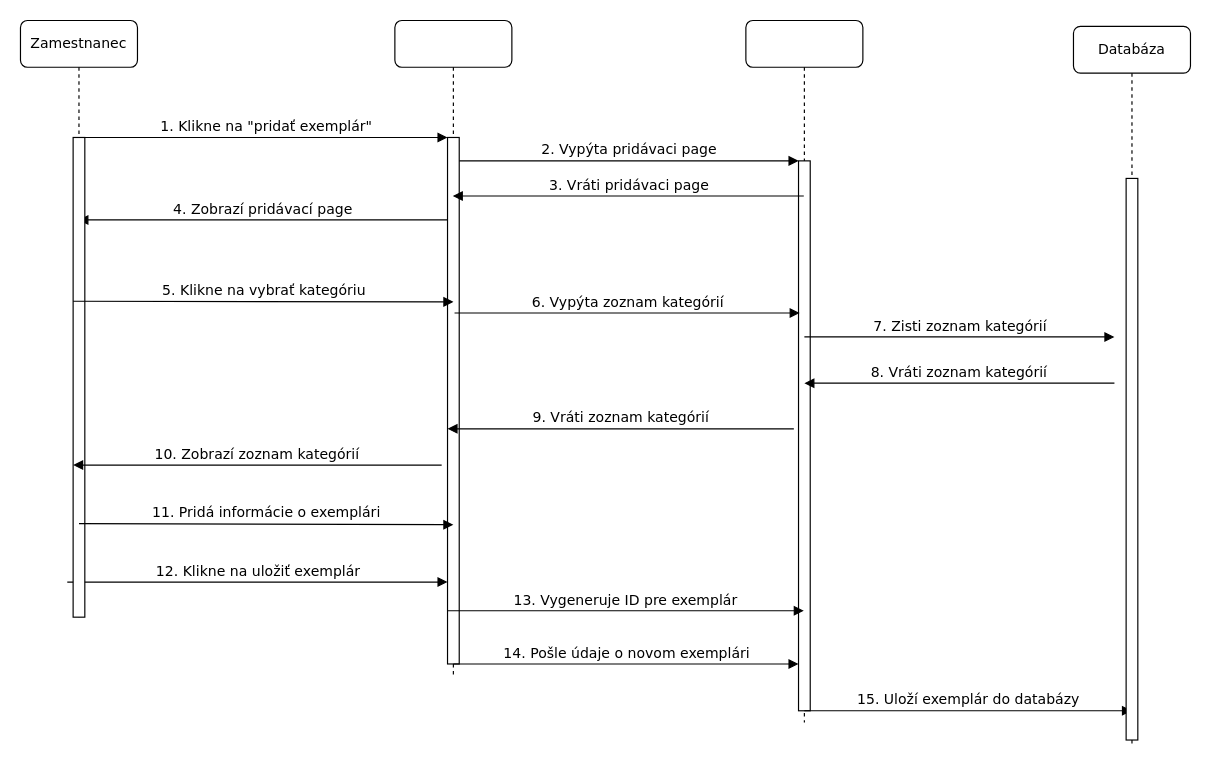
This 1211x766 diagram has some shape labels left out. Here are the shapes that lost their labels. From the top down, the box of each, then its label:
(394, 19, 512, 676): Stránka
(745, 19, 863, 722): Server
